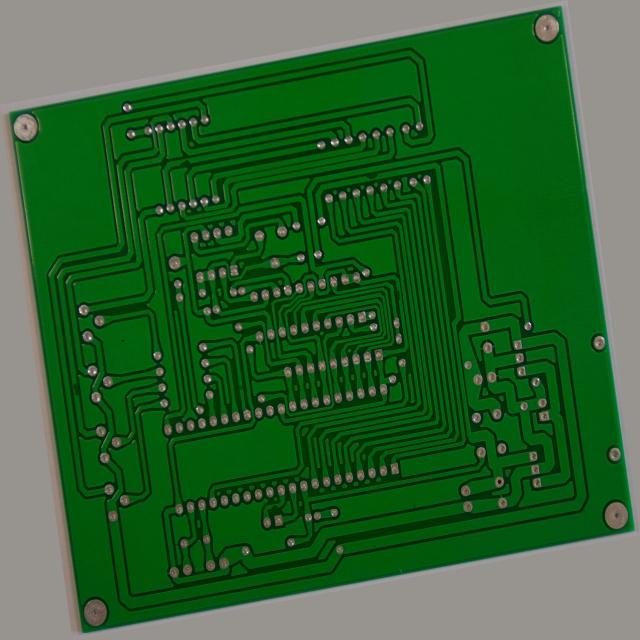mouse_bite: (36, 337, 45, 362), (184, 101, 203, 112), (389, 159, 408, 169), (406, 298, 414, 319), (236, 523, 249, 533)
